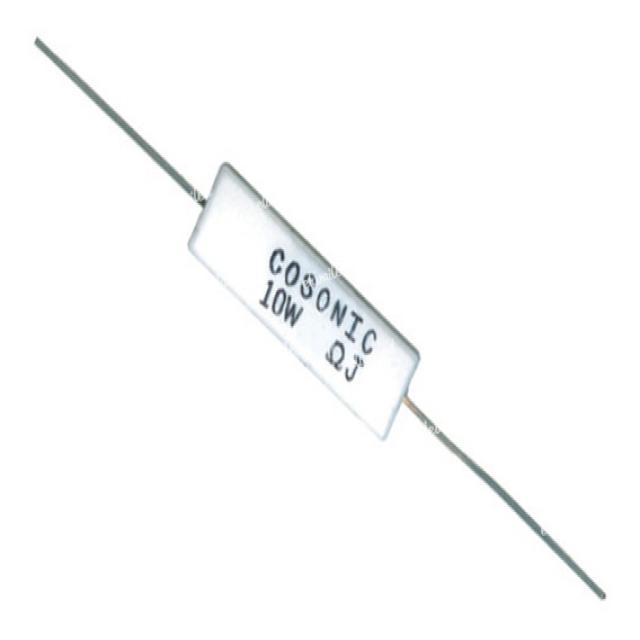Resistor: (192, 170, 415, 439)
